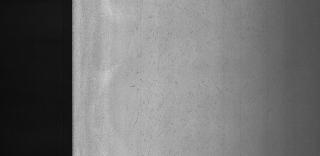silk spot: (120, 7, 200, 132)
